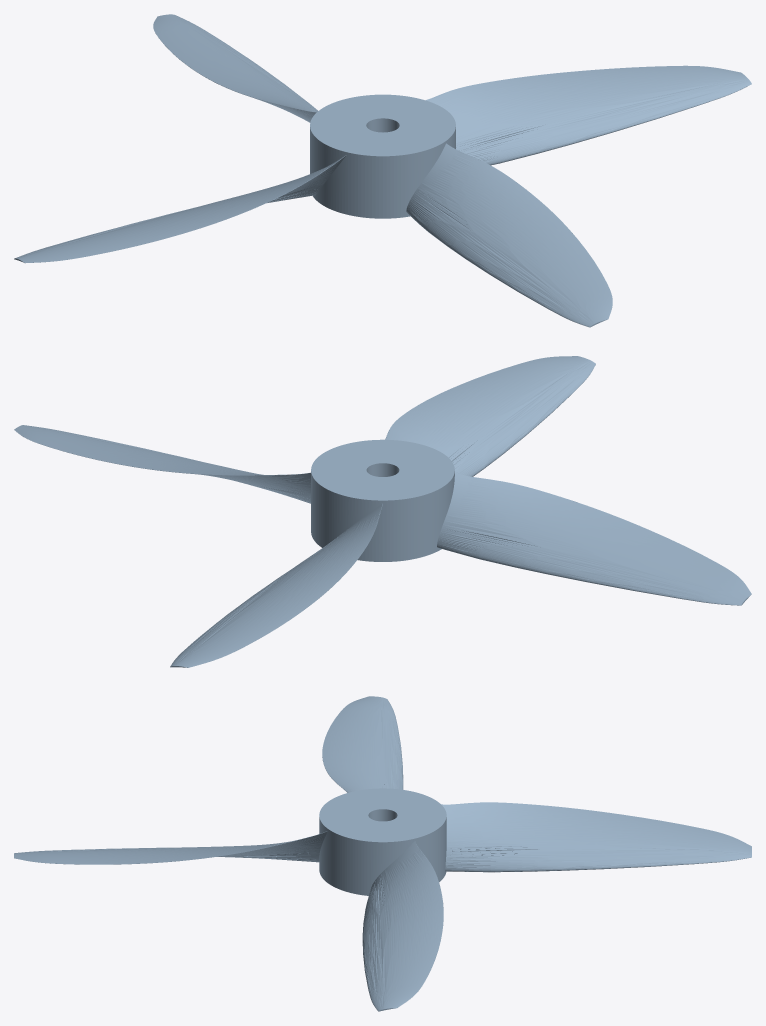
The picture shows the model from 3 angles, top to bottom: view 1: azimuth 30°, elevation 25°; view 2: azimuth 150°, elevation 25°; view 3: azimuth 270°, elevation 25°; orthographic projection. The views are drawn at different scales.
Parts seen in each view (by area): view 1: 6in-4b.stl; view 2: 6in-4b.stl; view 3: 6in-4b.stl.
Boxes of the visible parts, bbox=[...] form: 6in-4b.stl: bbox=[14, 14, 751, 327]; 6in-4b.stl: bbox=[14, 356, 751, 667]; 6in-4b.stl: bbox=[14, 696, 751, 1011].
Bounding box in the file's own units: 0.1524 × 0.0124 × 0.1524.
